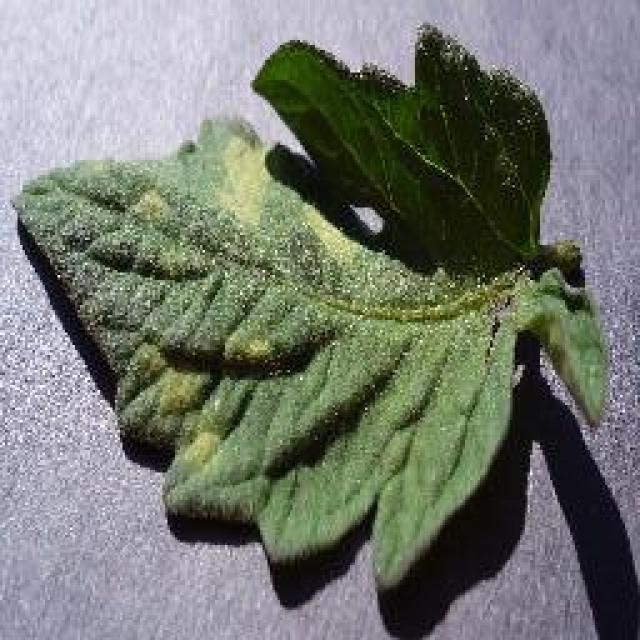Tomato mold leaf: (18, 26, 608, 599)
